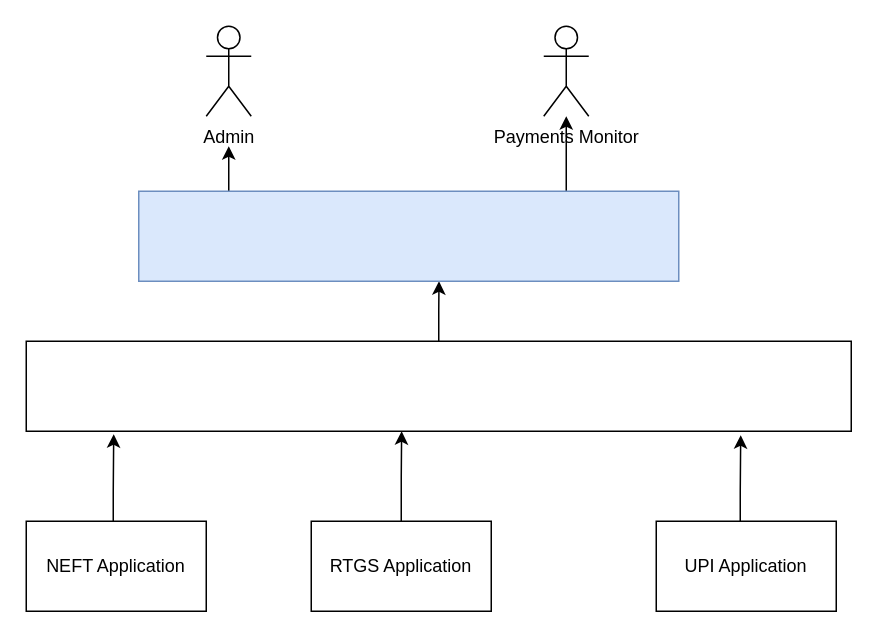
Some shapes in this 878 by 638 pixel diagram are drawn without their labels. The box of each missing label's shape, as (x1, y1, x2, y2) in pixels:
Messaging System: (25, 340, 851, 431)
Payments Dashboard Application: (137, 190, 679, 281)
